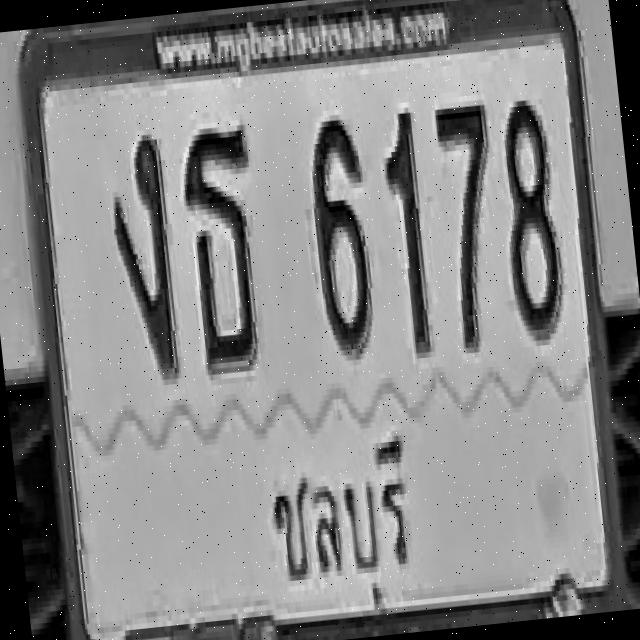1: (378, 105, 434, 352)
16NgorNgu: (104, 128, 180, 378)
33ThorThong: (177, 116, 270, 372)
6: (304, 110, 378, 354)
7: (432, 94, 508, 348)
8: (494, 90, 566, 334)
Chonburi: (253, 408, 429, 630)
